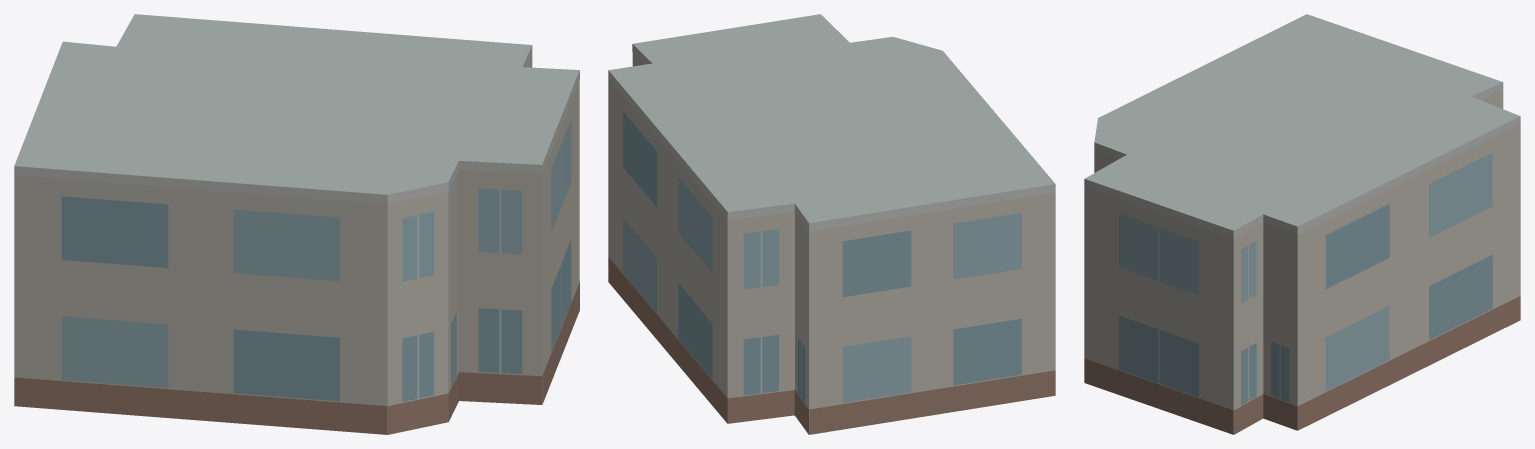
File: survey-upis-32784023.glb
3 renders of one model, left to right at view 1: azimuth 30°, elevation 25°; view 2: azimuth 150°, elevation 25°; view 3: azimuth 270°, elevation 25°, orthographic. The views are drawn at different scales.
Visible parts, largest first — view 1: survey-upis-32784023.tmp; view 2: survey-upis-32784023.tmp; view 3: survey-upis-32784023.tmp.
Part boxes in pixels (x1,y1,x2,y2): survey-upis-32784023.tmp: (14,14,579,434); survey-upis-32784023.tmp: (608,14,1055,434); survey-upis-32784023.tmp: (1084,14,1520,434).
Size of the model in its own units: 13.91 by 6.1 by 11.82.
